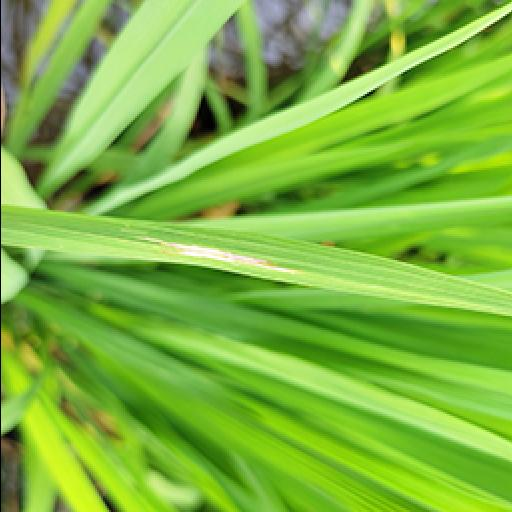Bacterial Leaf Blight: (124, 230, 302, 286)
